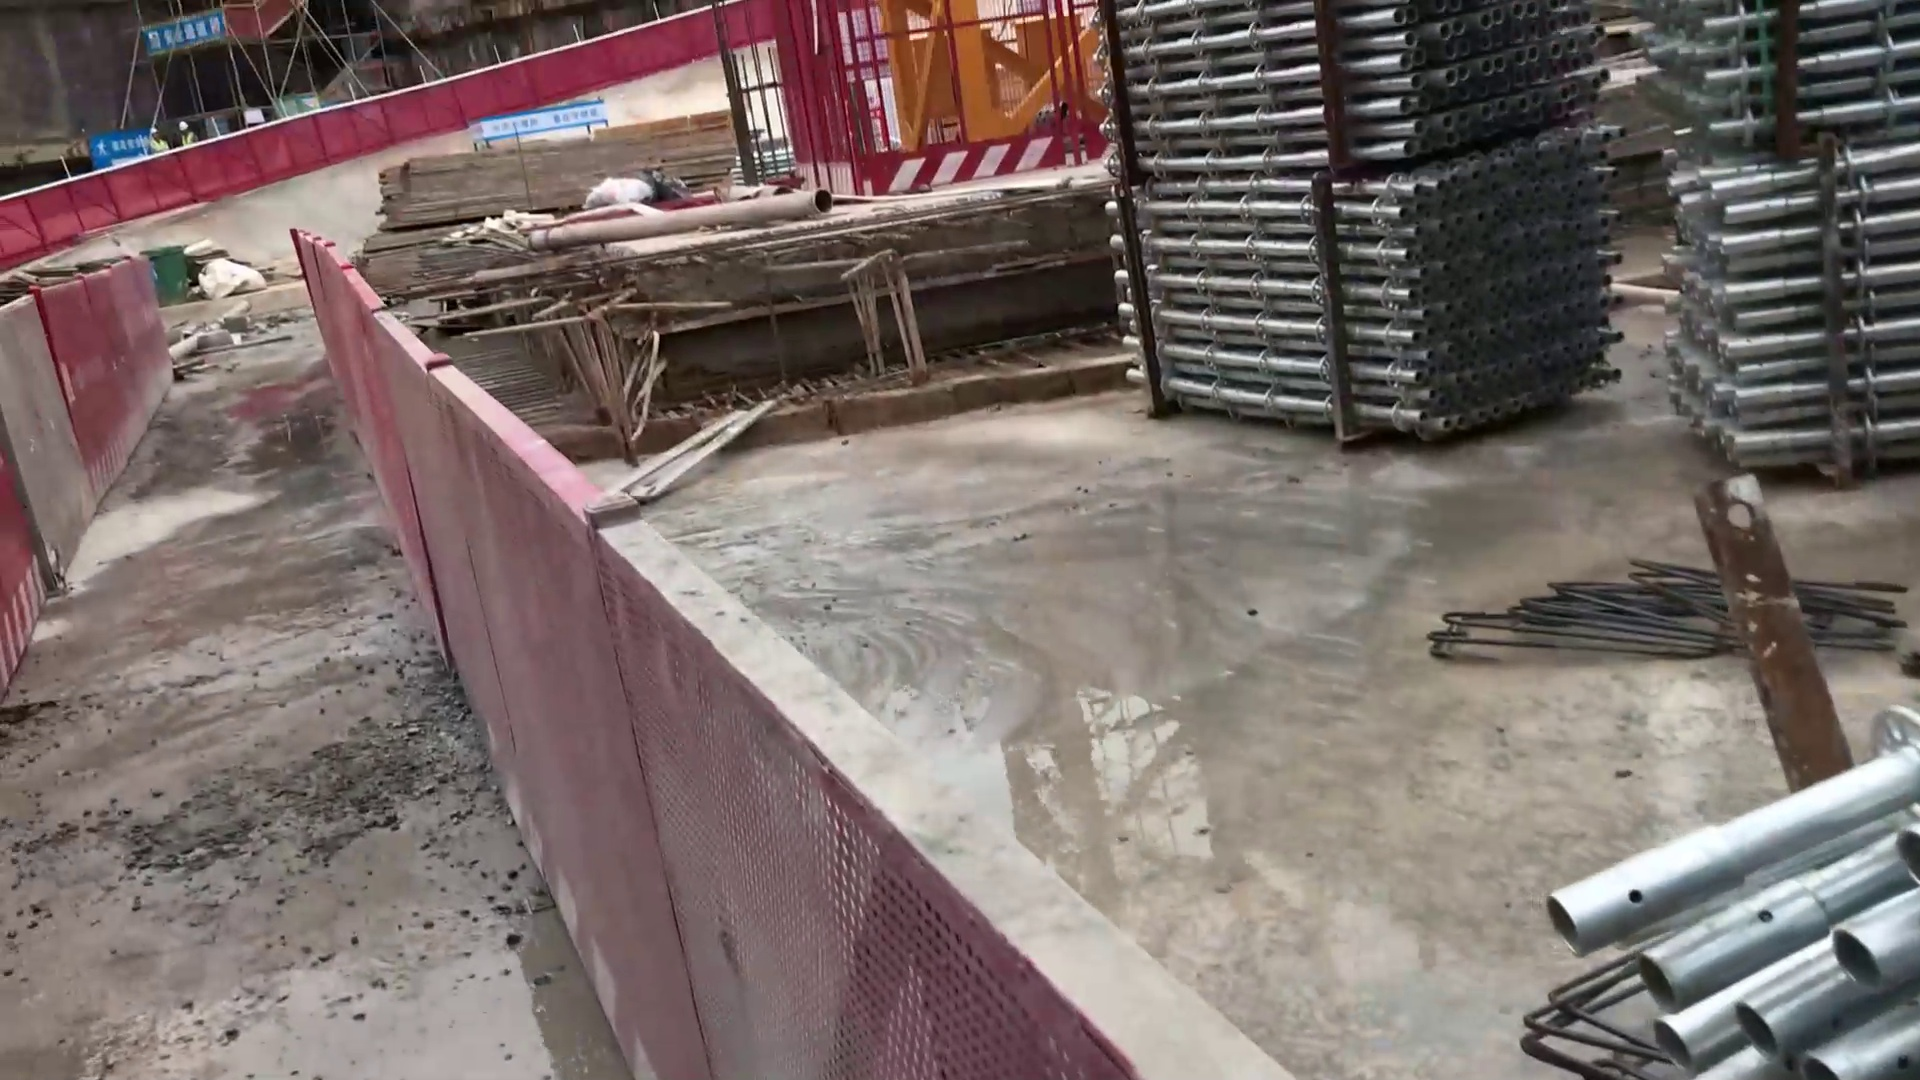fence: (315, 276, 1166, 1080), (1, 272, 164, 651)
rebar: (1419, 545, 1913, 676), (363, 117, 756, 198)
scaffold: (1102, 1, 1615, 450), (1638, 3, 1920, 479)
slogan: (465, 102, 608, 146), (136, 7, 236, 55), (84, 127, 149, 160)
